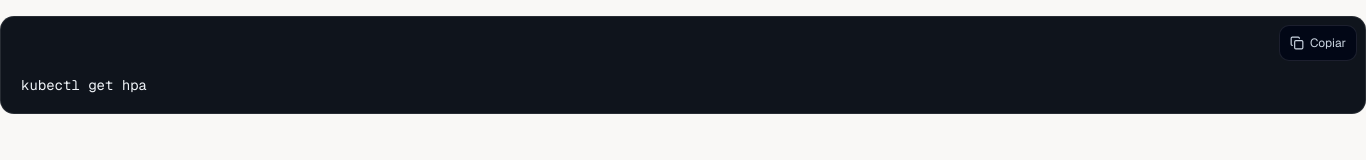
Test: CodeBlock › copies the code and announces success
Click the button with aria-label "Copiar código": (1318, 43) [1279,25,1357,61]
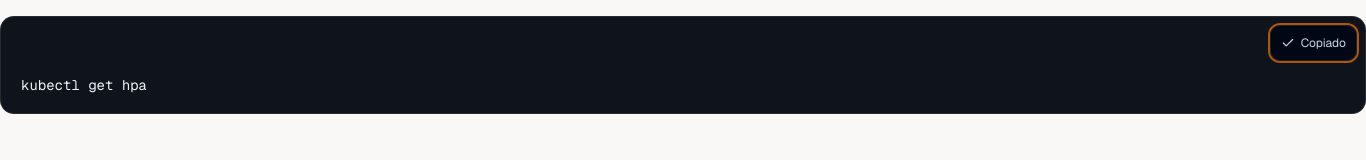
expect the button with aria-label "Copiar código" reads "Copiado": met, box [1270,25,1357,61]
